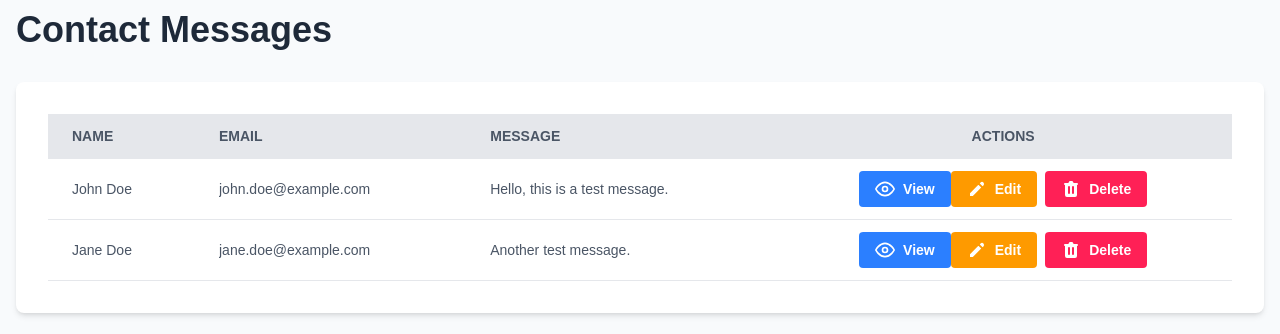
ContactPage › deletes a message when delete is confirmed
The image size is (1280, 334).
Click the button "Delete" in the row of "John Doe". click: (1096, 189)
box: 1045,171 -> 1147,207
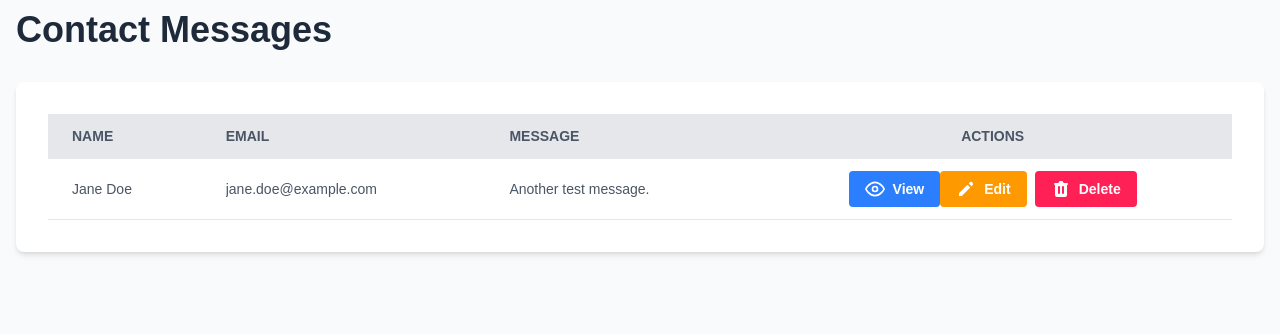
Now the text "John Doe" is gone
